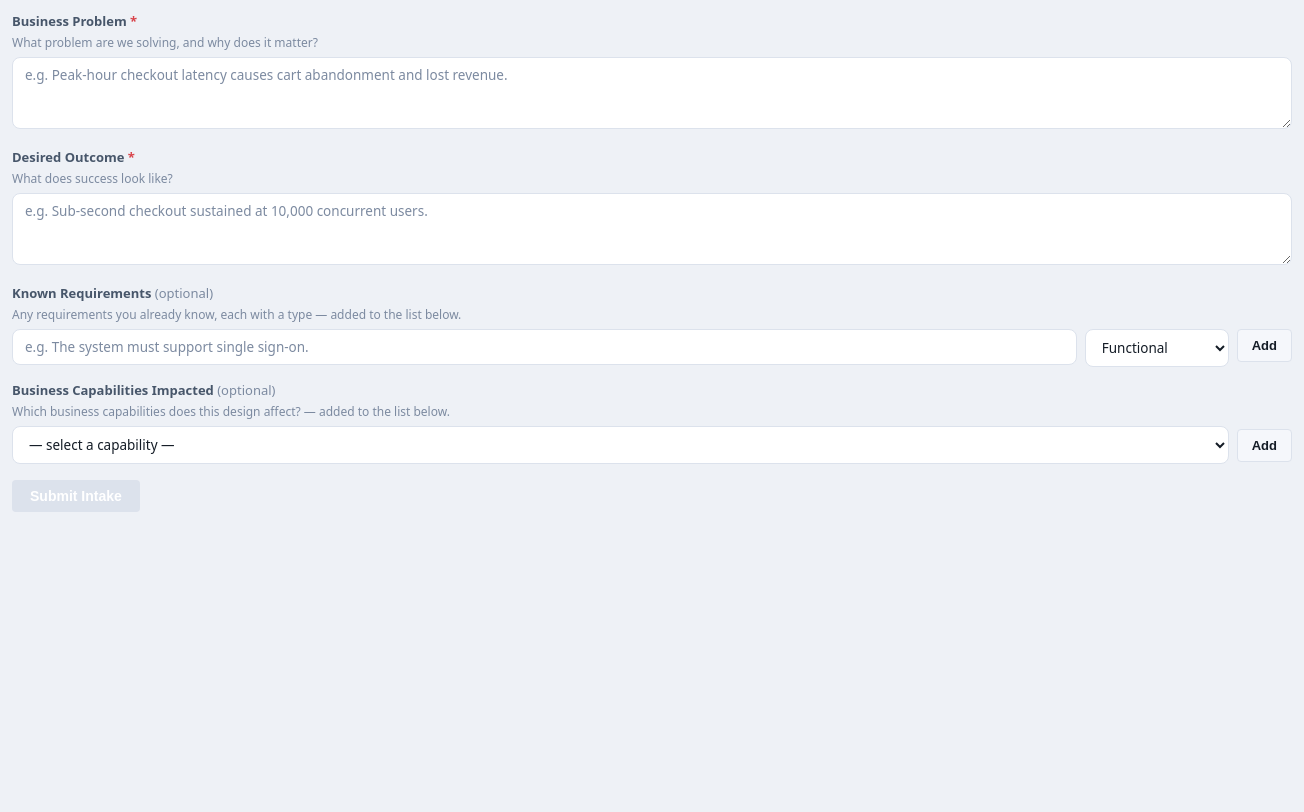
IntakeTextForm Known Requirements typed list › submits each queued requirement against the resolved design, sequentially, on Submit
Replace the text in the text box labelled "Business Problem *" with "Checkout is slow" at (652, 93), box top-left (12, 57), bottom-right (1292, 129)
Replace the text in the text box labelled "Desired Outcome *" with "Checkout is fast" at (652, 229), box top-left (12, 193), bottom-right (1292, 265)
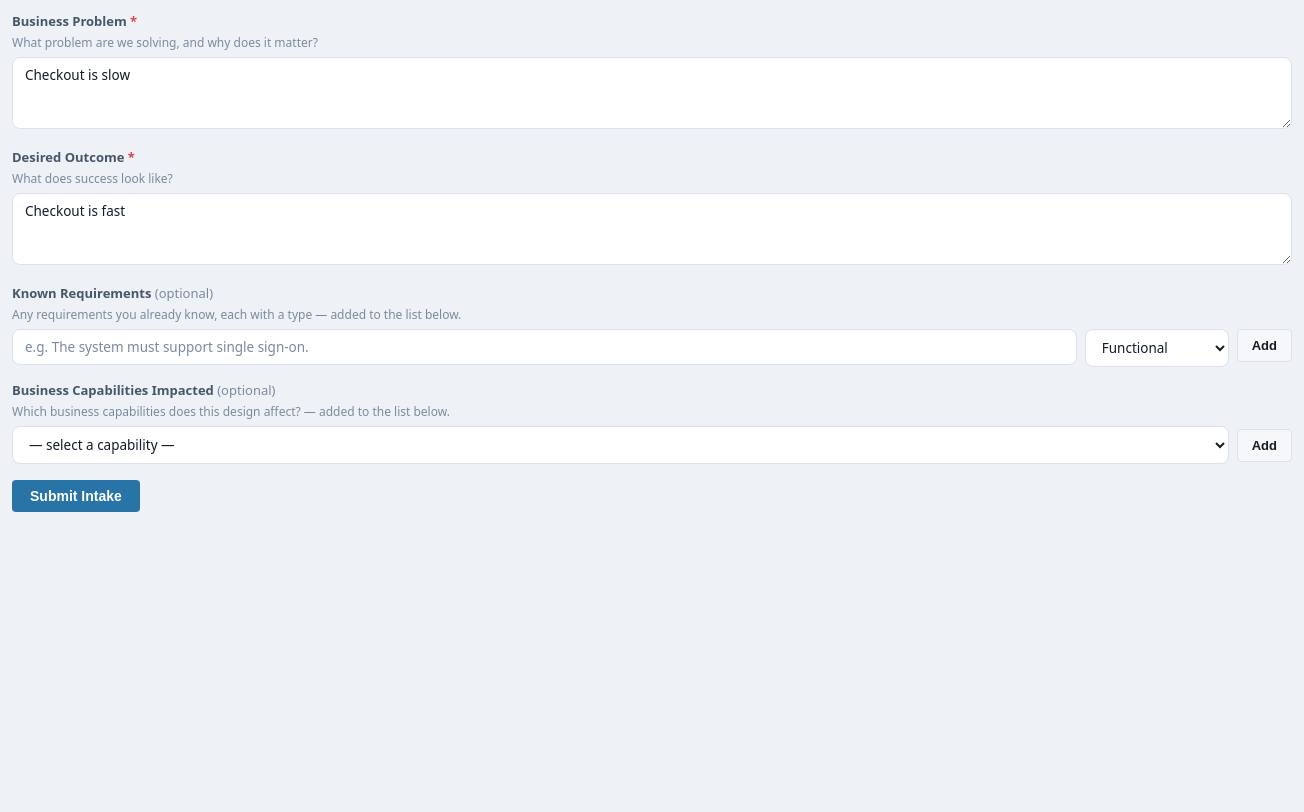
Type "The system must support SSO" into the field with placeholder "e.g. The system must support single sign-on." at (544, 347), box top-left (12, 329), bottom-right (1077, 365)
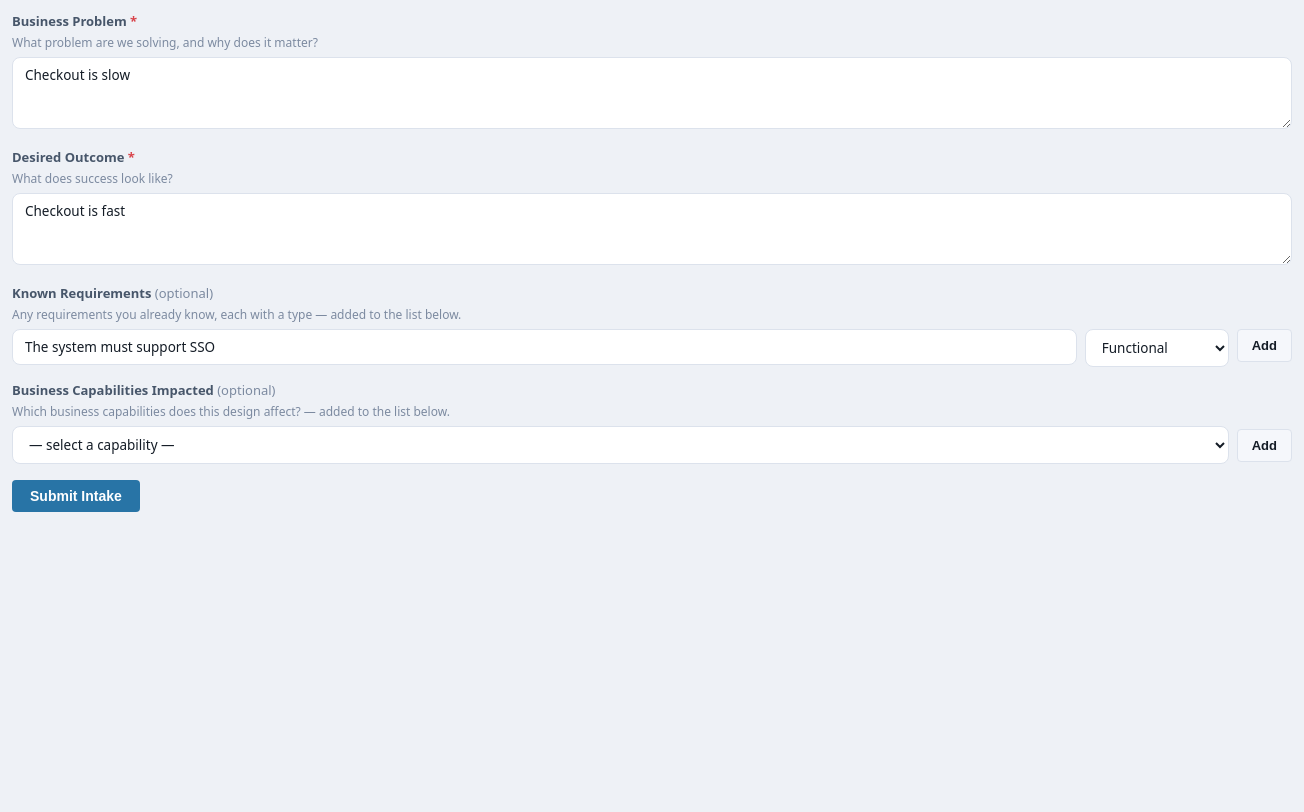
Select "Functional" in the dropdown showing "Functional" at (1157, 348), box top-left (1085, 329), bottom-right (1229, 367)
Click the 1st button "Add" at (1264, 346), box top-left (1237, 329), bottom-right (1292, 362)
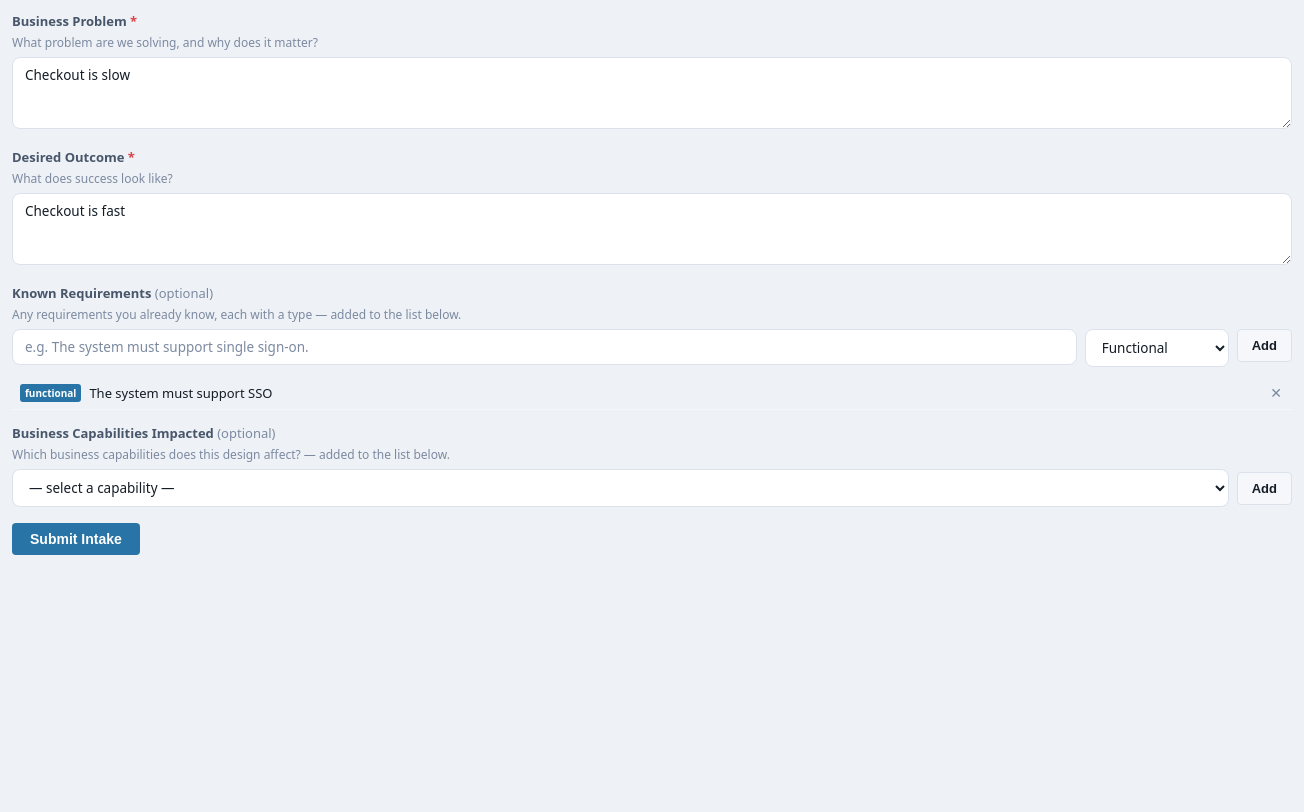
Type "The system must log audit events" into the field with placeholder "e.g. The system must support single sign-on." at (544, 347), box top-left (12, 329), bottom-right (1077, 365)
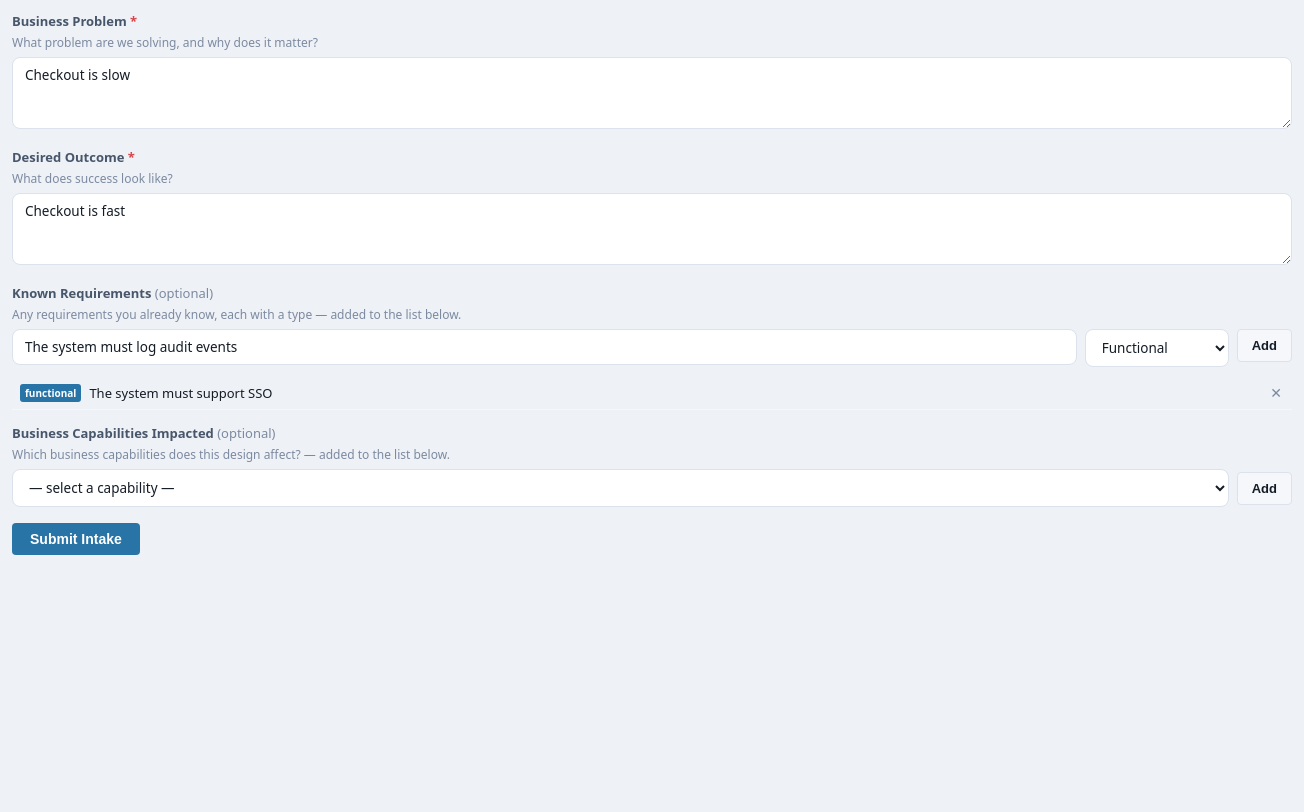
Click the 1st button "Add" at (1264, 346), box top-left (1237, 329), bottom-right (1292, 362)
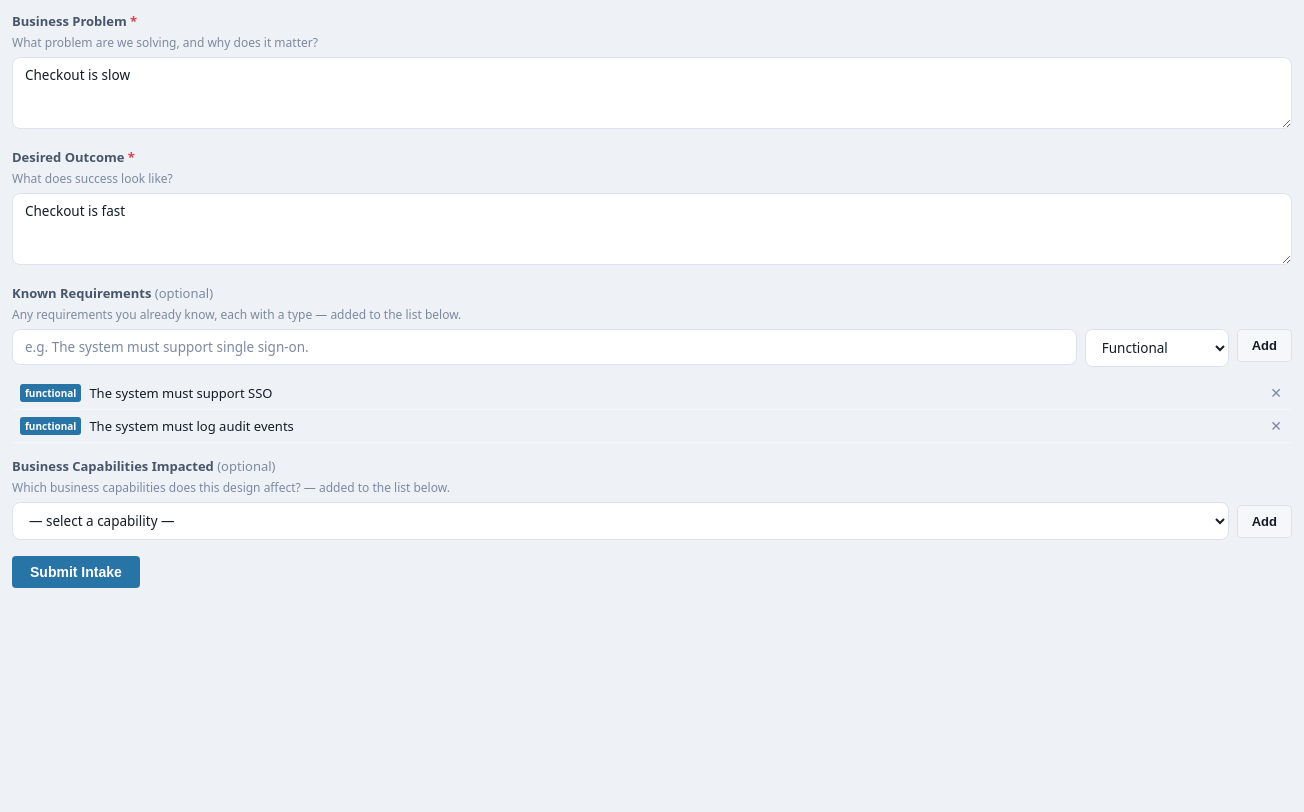
Click the button "Submit Intake" at (76, 572), box top-left (12, 556), bottom-right (140, 588)
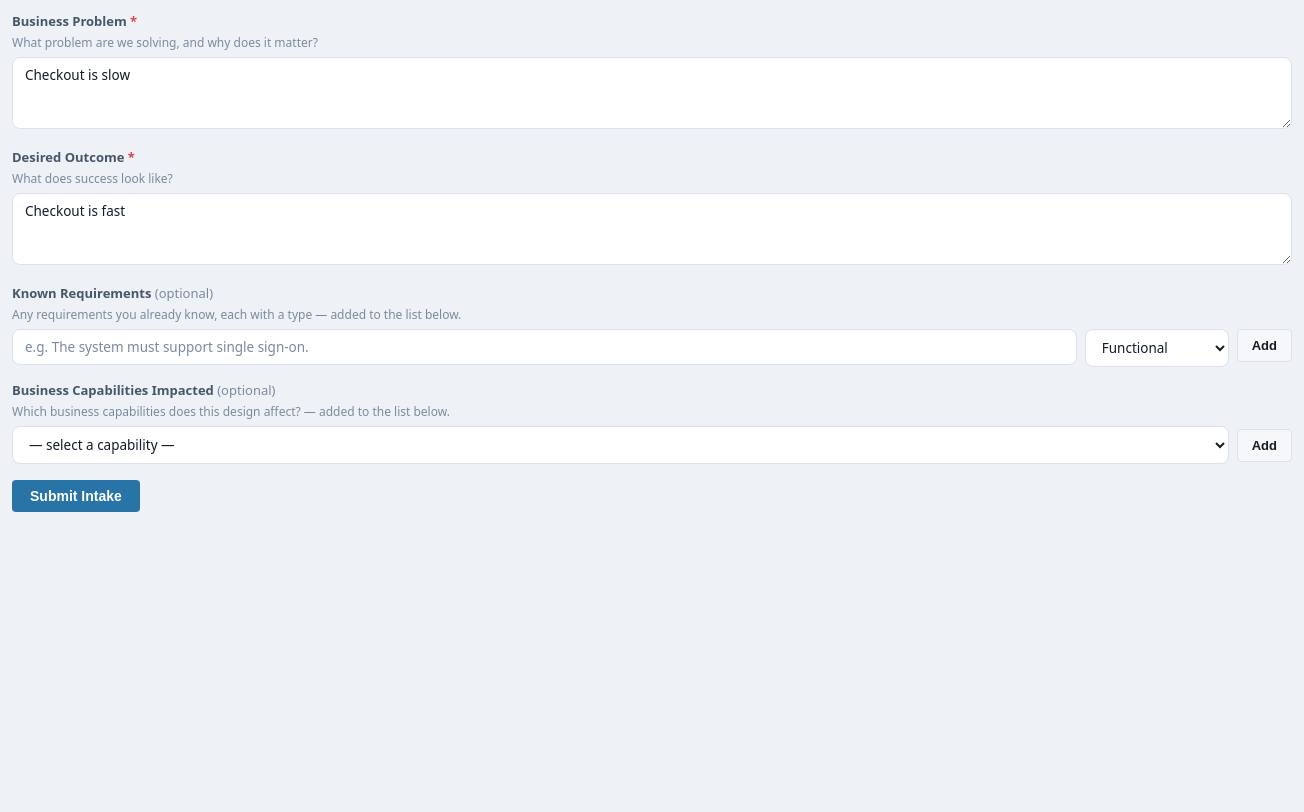
Check: the text "The system must support SSO" is gone
